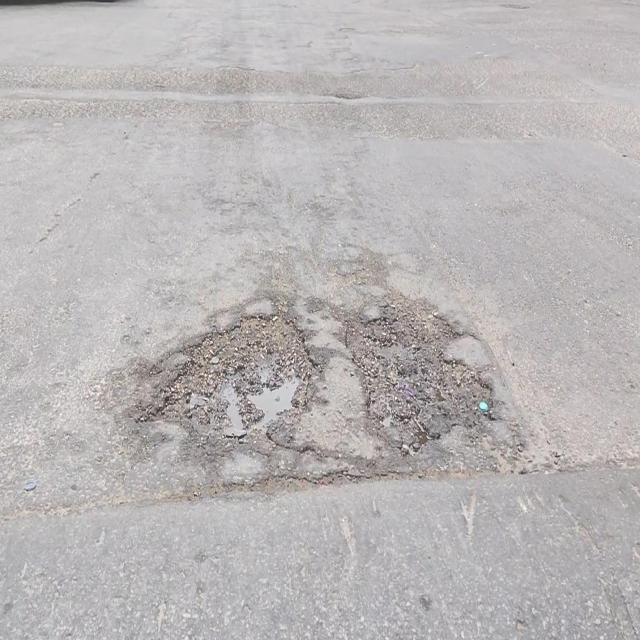Potholes: (342, 290, 496, 455), (150, 308, 312, 448)
